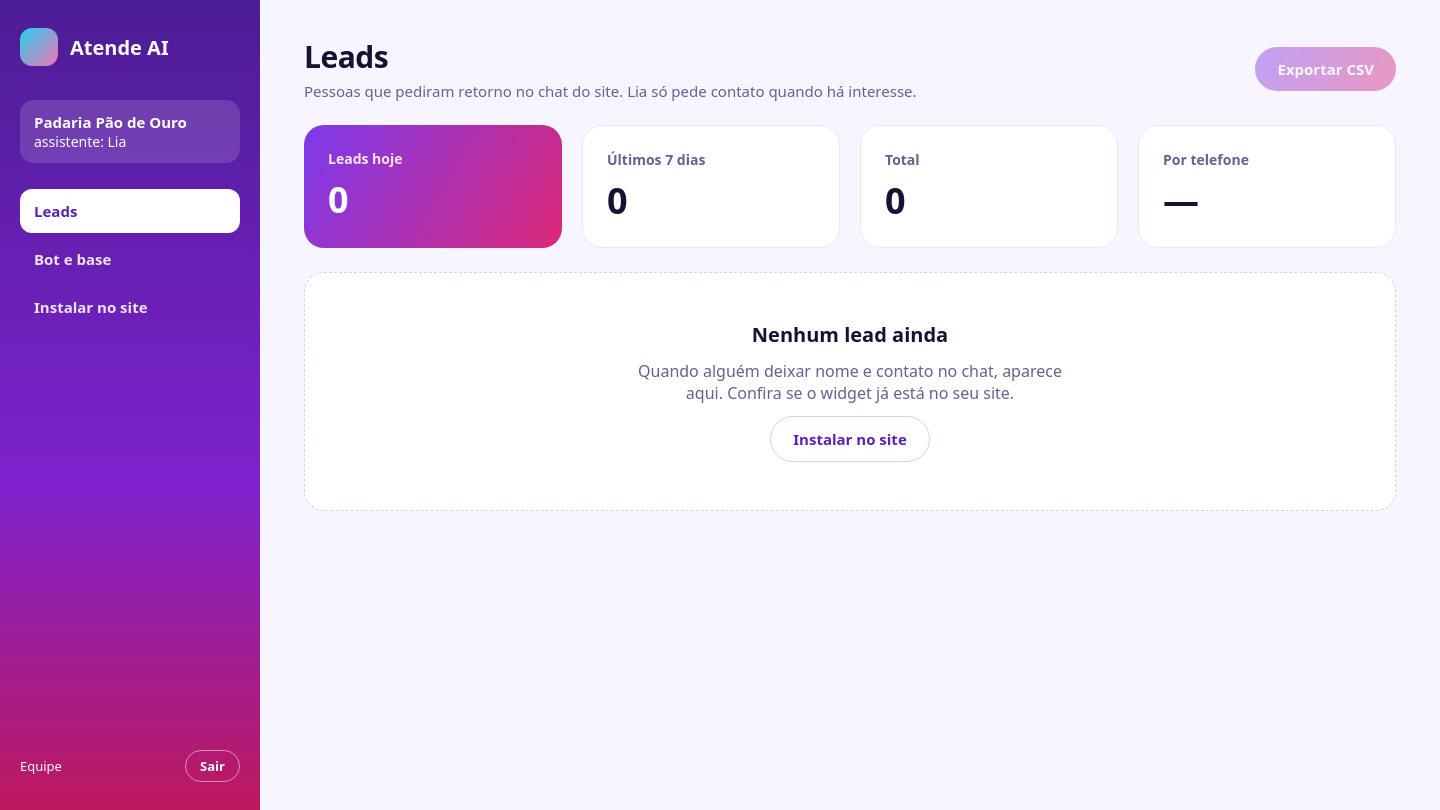
Test: acesso › sair apaga o token e volta ao login
Click the button "Sair": (213,766) top-left (185, 750), bottom-right (240, 782)
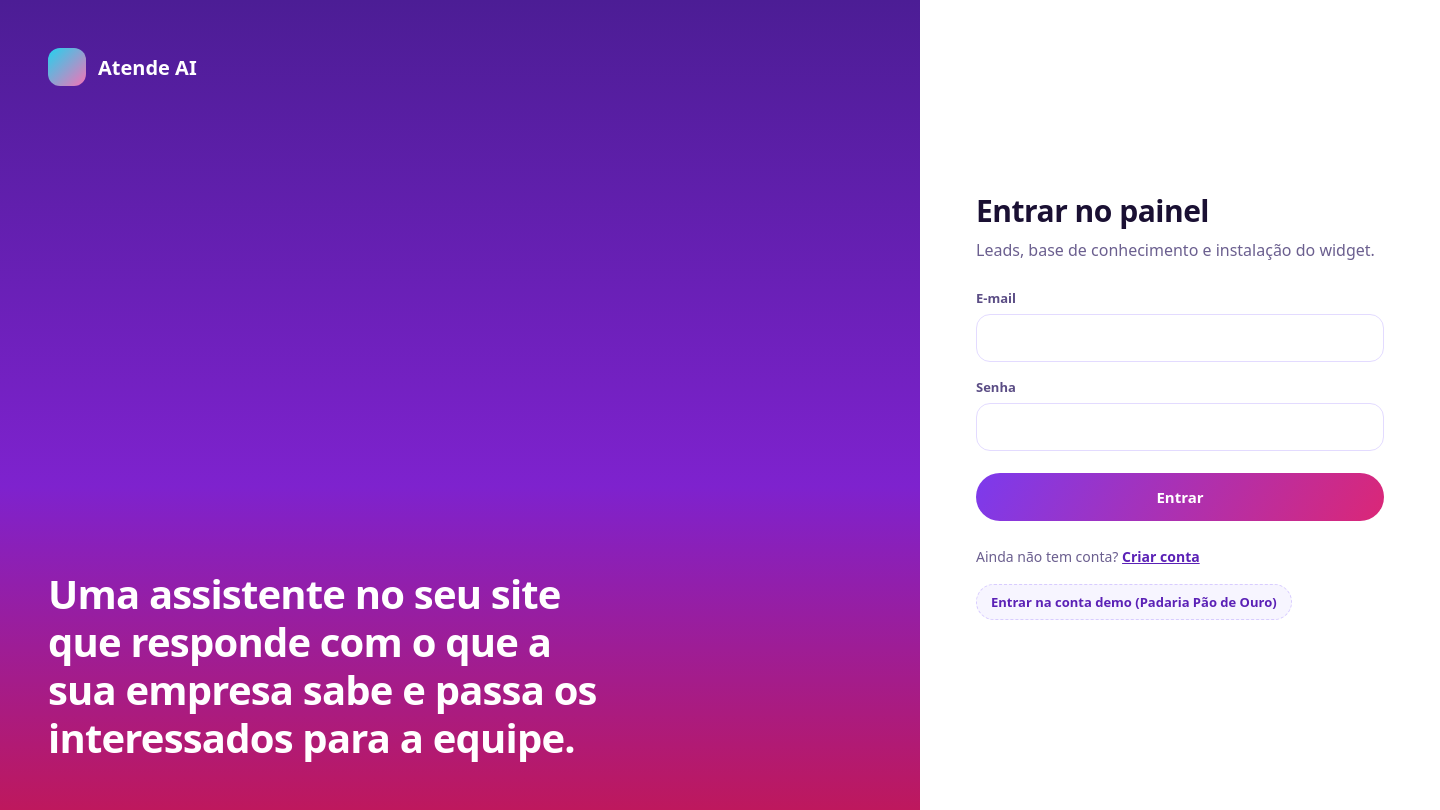
Result: the heading "Entrar no painel" is shown at top-left (976, 190), bottom-right (1209, 231)
